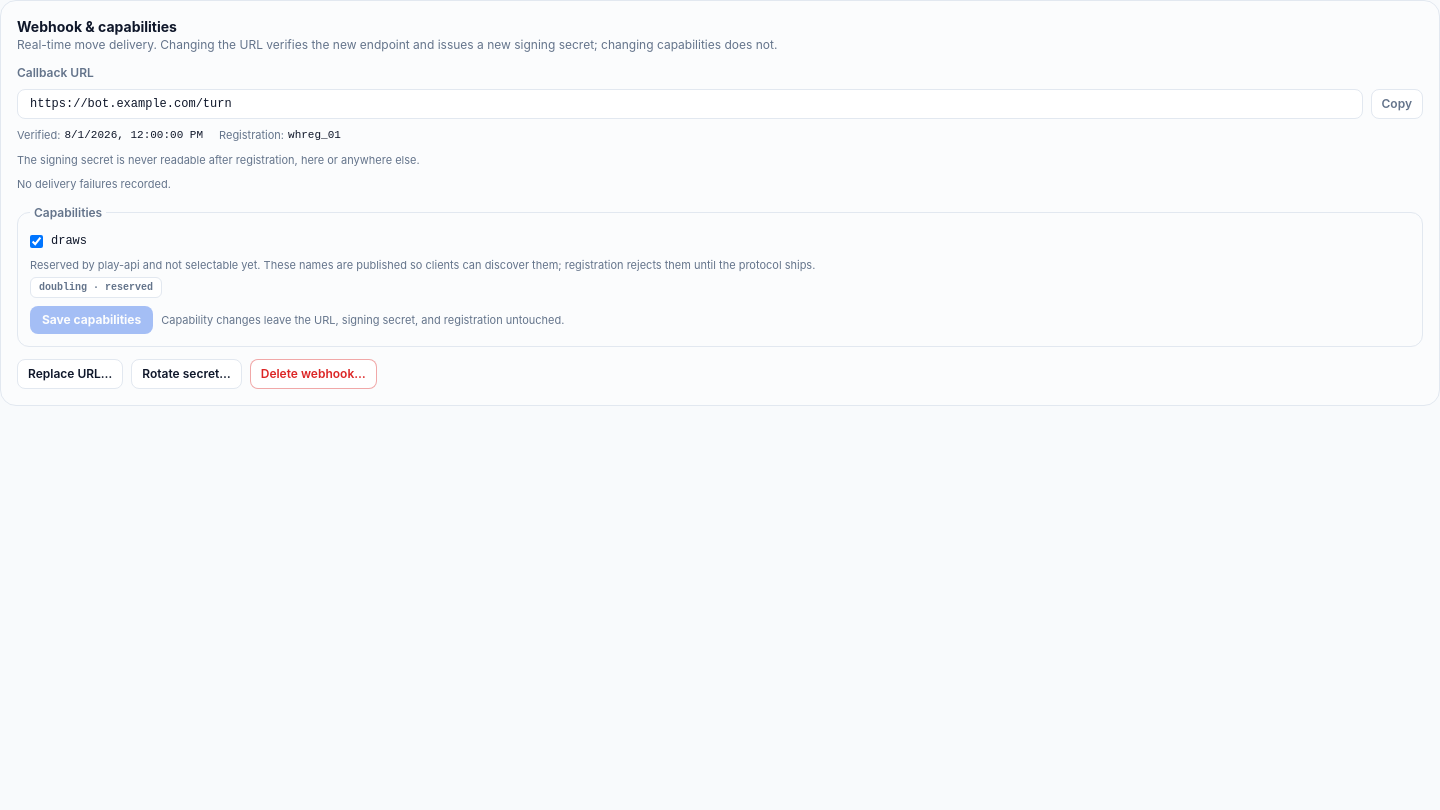
Scenario: BotWebhookPanel › URL edit-and-verify flow › blocks activation until the operator confirms the secret is stored
The image size is (1440, 810).
Step 1. Click the button "Replace URL…" → (70, 374), box [17,359,123,389]
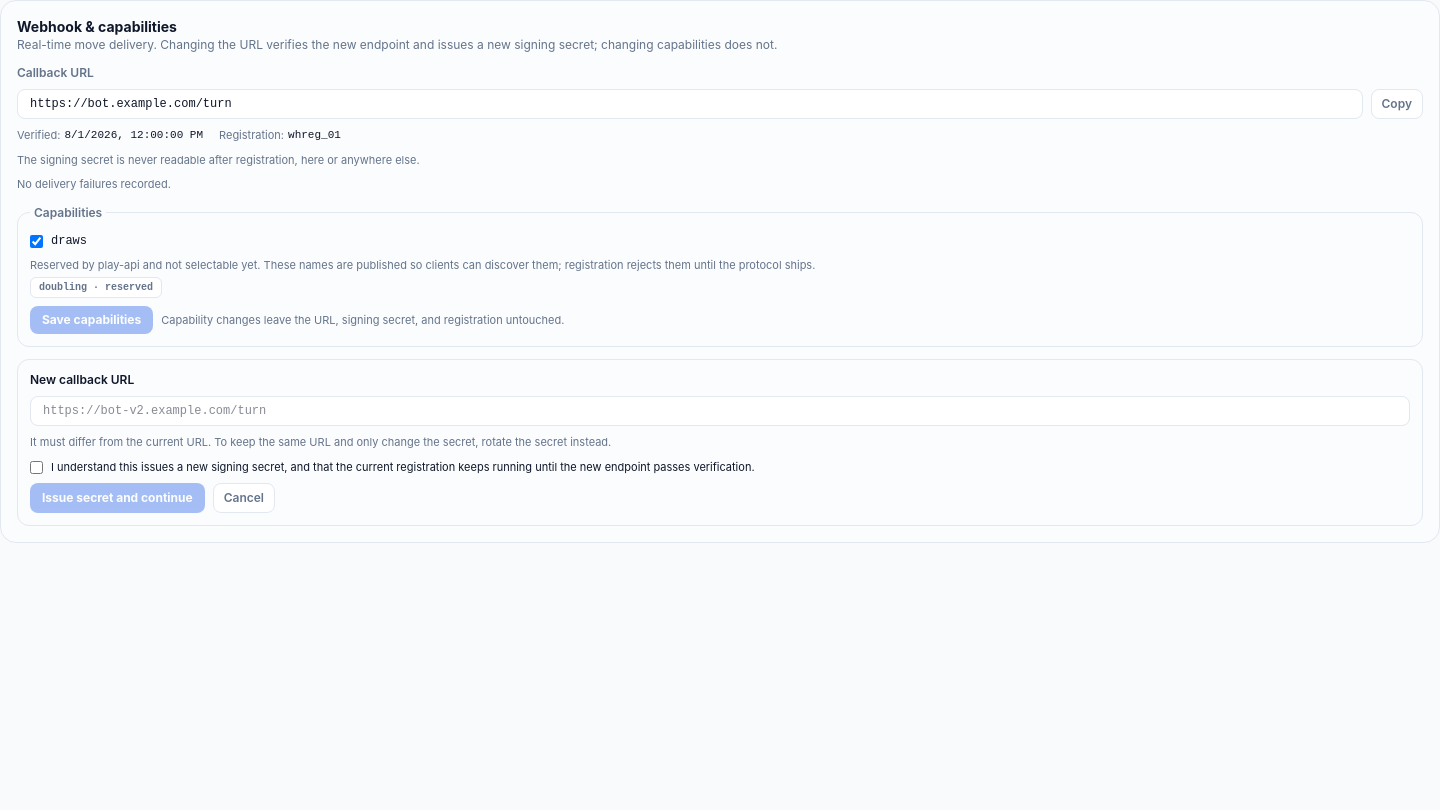
Step 2. Type "https://v2.example.com/turn" into the field labelled "New callback URL" → (720, 411), box [30,396,1410,426]
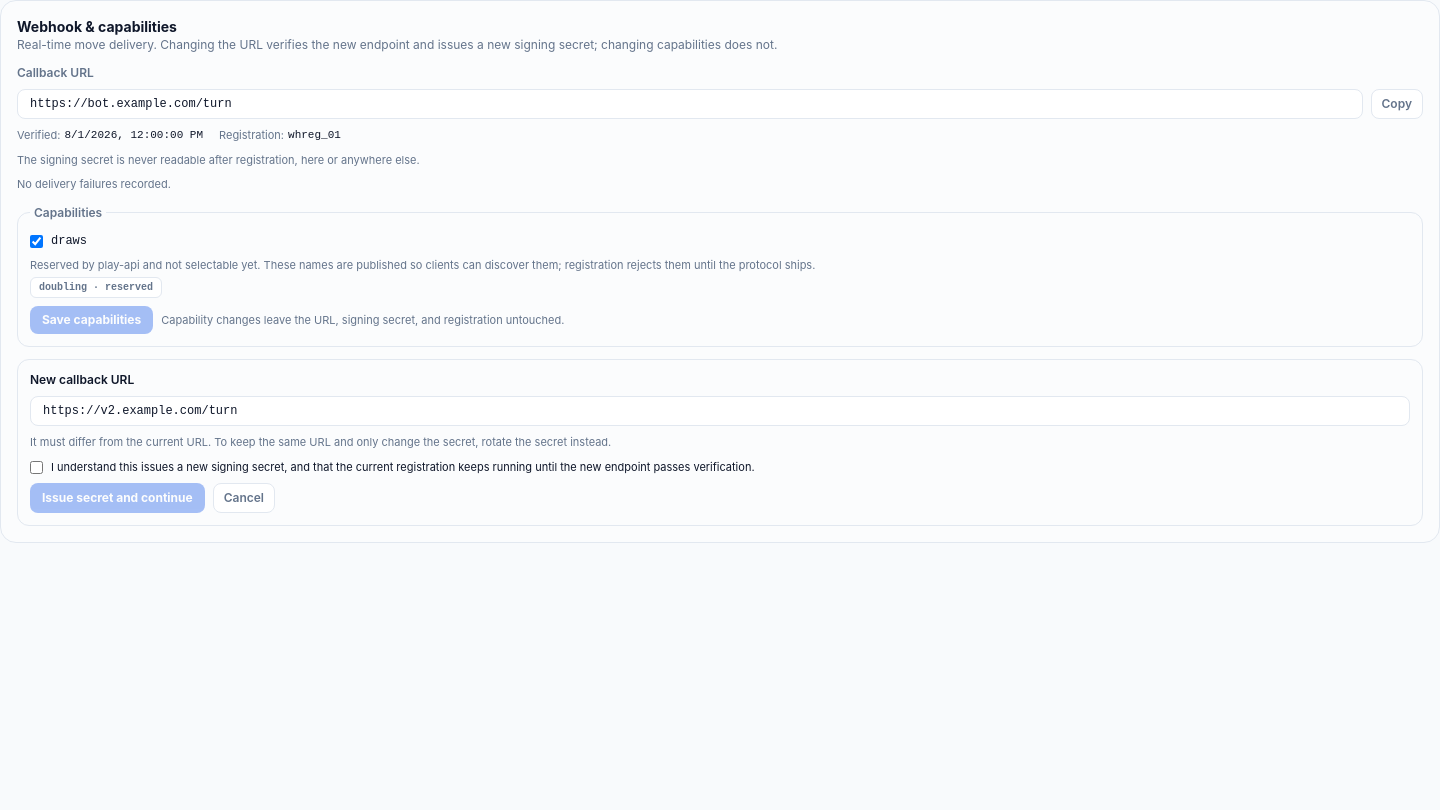
Step 3. Click the checkbox labelled "new signing secret" → (36, 467), box [30,460,43,474]
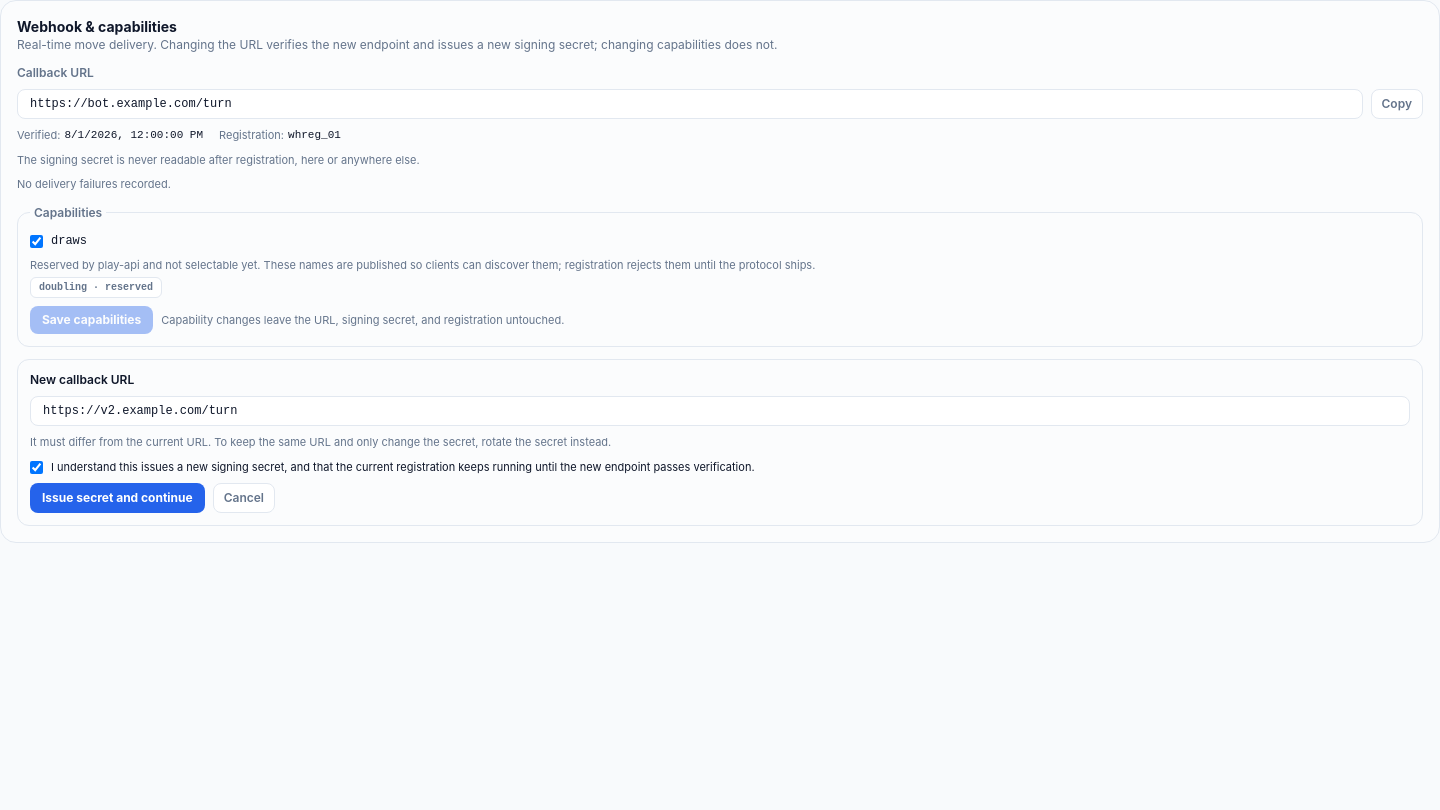
Step 4. Click the button "Issue secret and continue" → (117, 498), box [30,483,205,513]
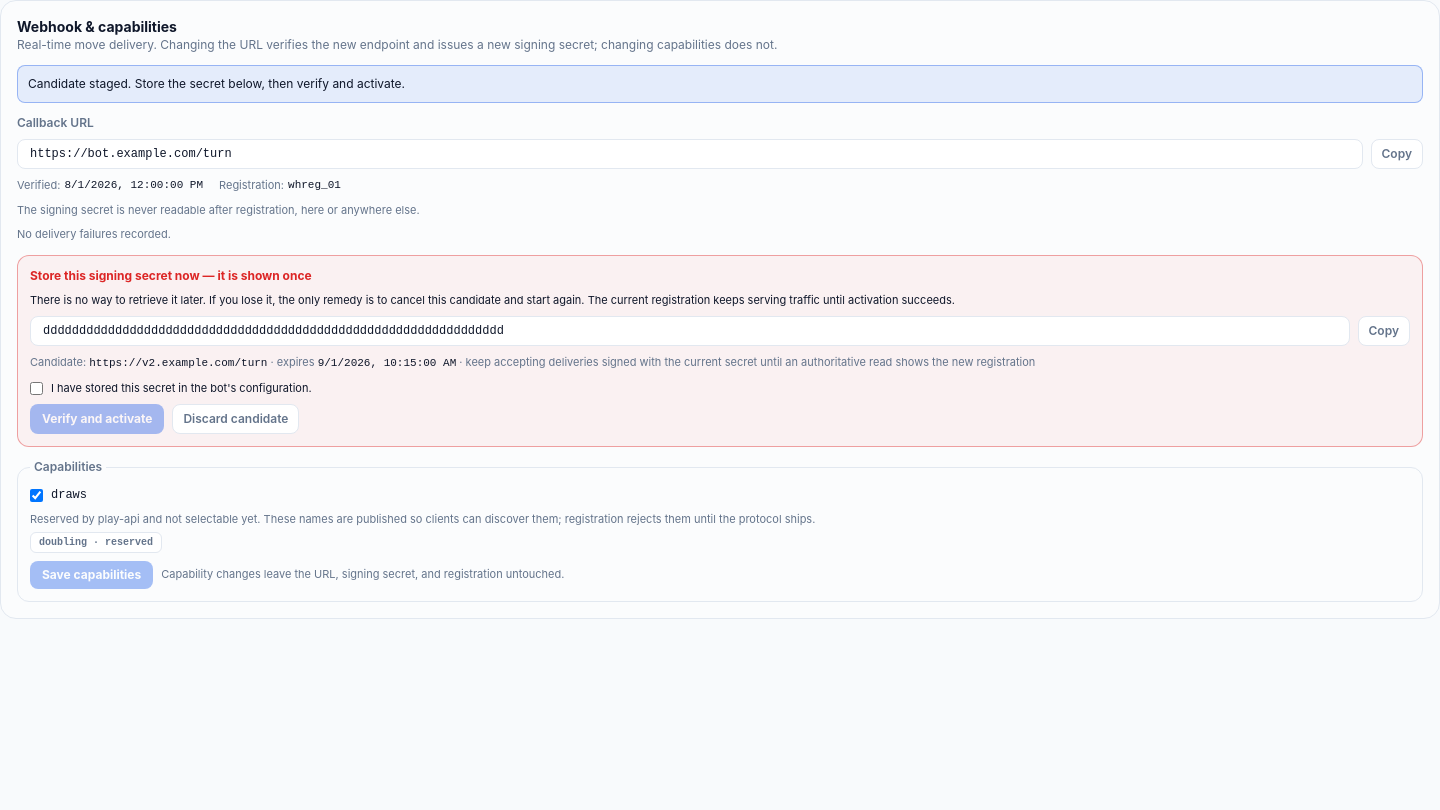
Result: the button "Verify and activate" is disabled at [30,404,164,434]
Step 5. Click the checkbox labelled "I have stored this secret in the bot's configuration." → (36, 388), box [30,382,43,394]
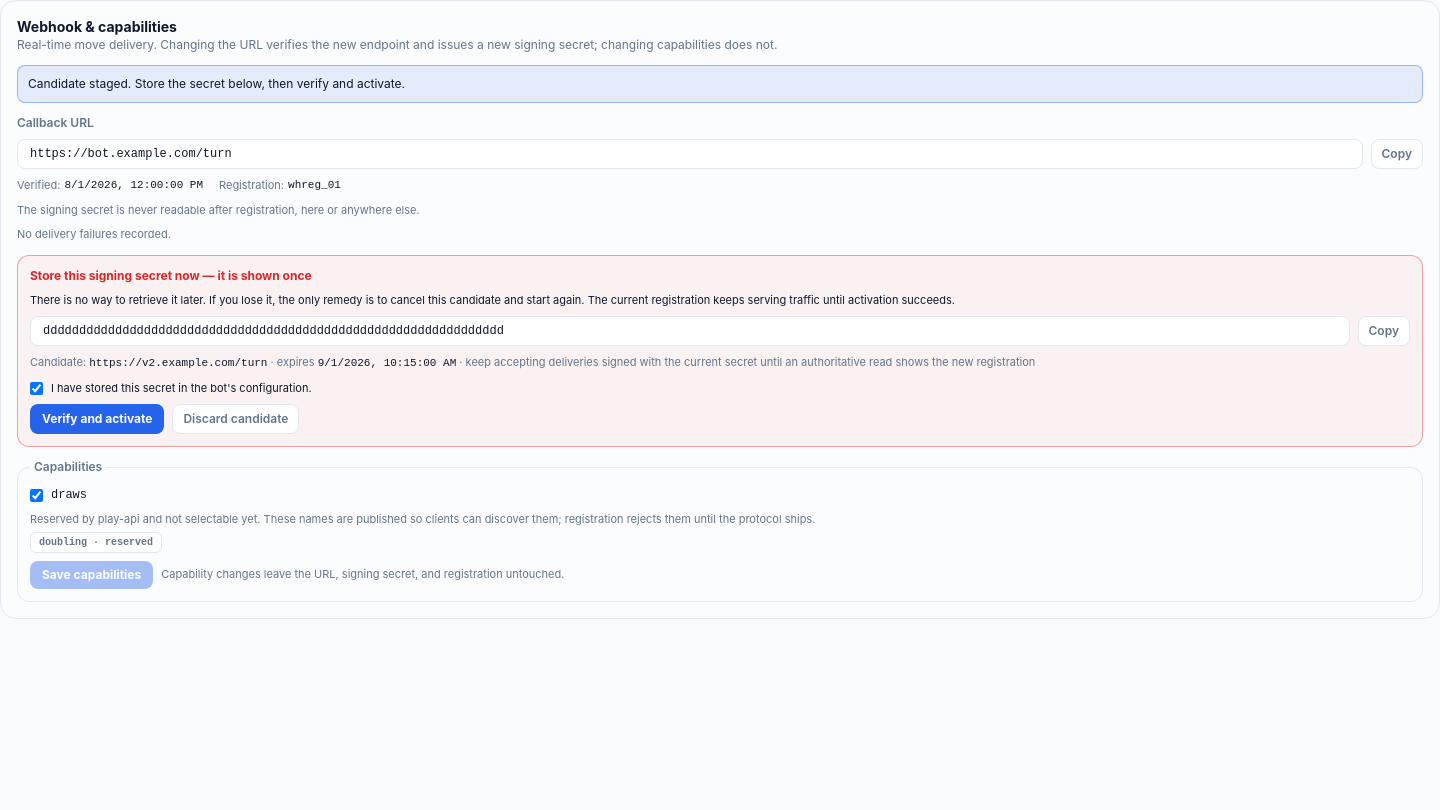
Result: the button "Verify and activate" is enabled at [30,404,164,434]
